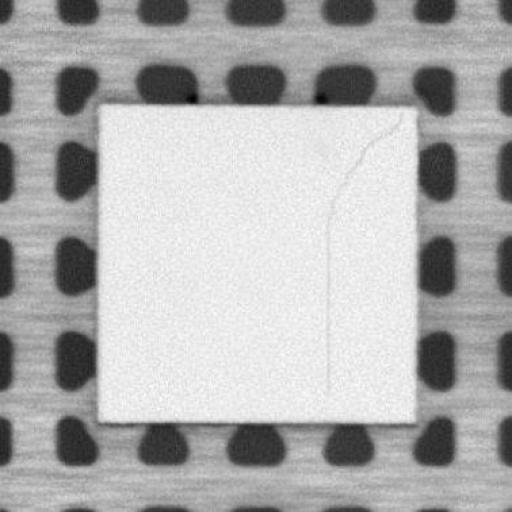DIE_CRACK: (321, 114, 402, 398)
